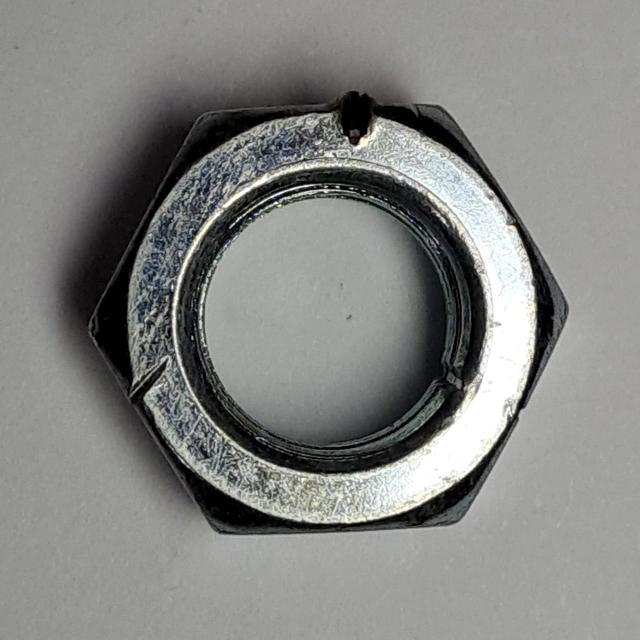Scratches: (70, 77, 580, 547)
